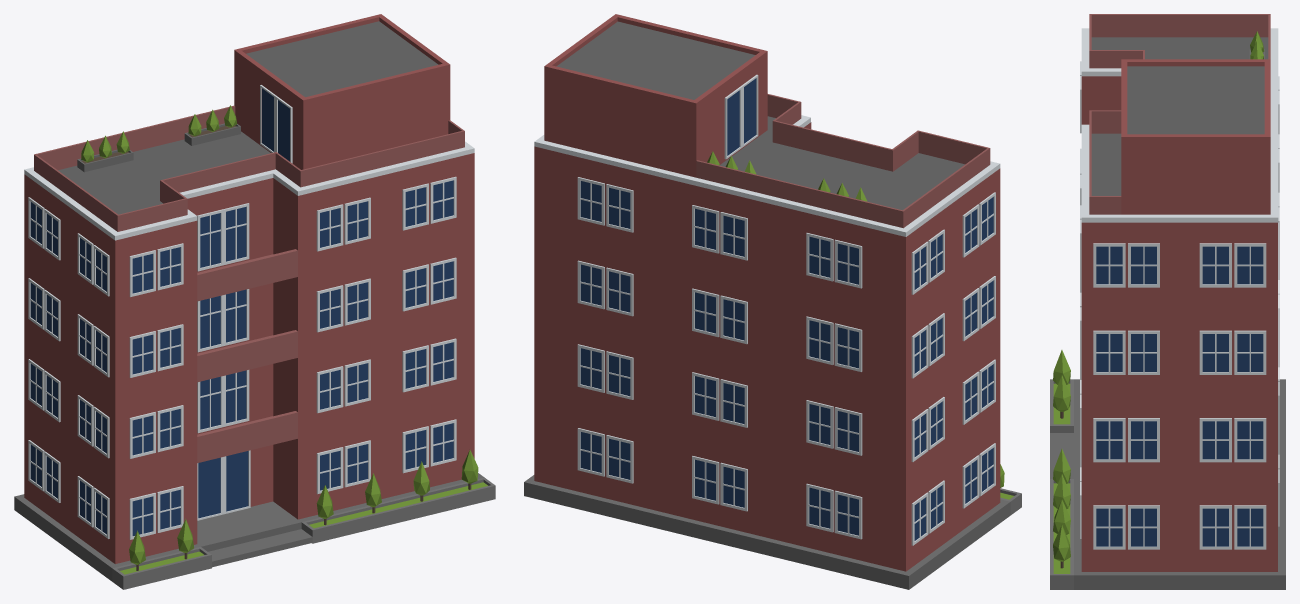
The model's file is apartment1.glb.
3 renders of one model, left to right at view 1: azimuth 30°, elevation 25°; view 2: azimuth 150°, elevation 25°; view 3: azimuth 270°, elevation 25°, orthographic. The views are drawn at different scales.
Visible parts, largest first — view 1: lpc0013996; view 2: lpc0013996; view 3: lpc0013996.
Part boxes in pixels (left/top/right/bottom): lpc0013996: left=14, top=14, right=495, bottom=589; lpc0013996: left=524, top=14, right=1021, bottom=589; lpc0013996: left=1050, top=14, right=1285, bottom=589.
Bounding box in the file's own units: 3.87 × 4.11 × 1.97.
